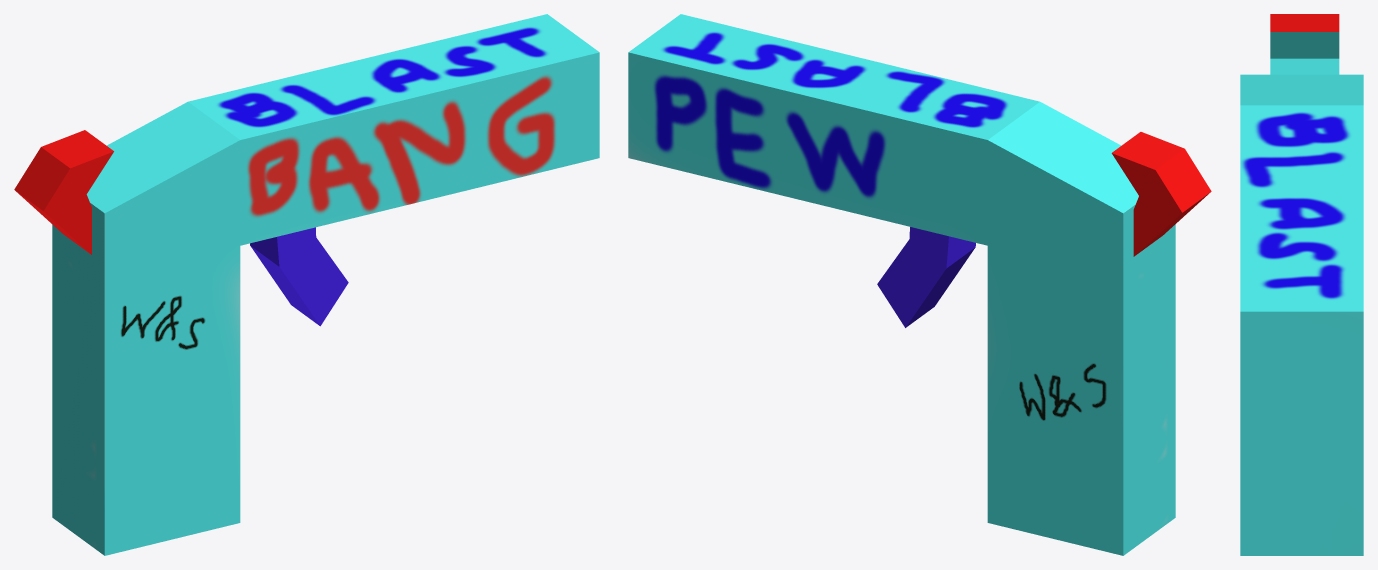
The model's file is GUN.obj.
3 views of the same model, side by side, from view 1: azimuth 30°, elevation 25°; view 2: azimuth 150°, elevation 25°; view 3: azimuth 270°, elevation 25° (orthographic). The views are drawn at different scales.
Parts seen in each view (by area): view 1: Plane; view 2: Plane; view 3: Plane.
Boxes of the visible parts, x1,y1,x2,y2 form: Plane: (14, 14, 599, 555); Plane: (628, 14, 1211, 555); Plane: (1240, 14, 1363, 555).
Size of the model in its own units: 0.381 by 0.2611 by 0.0637.
